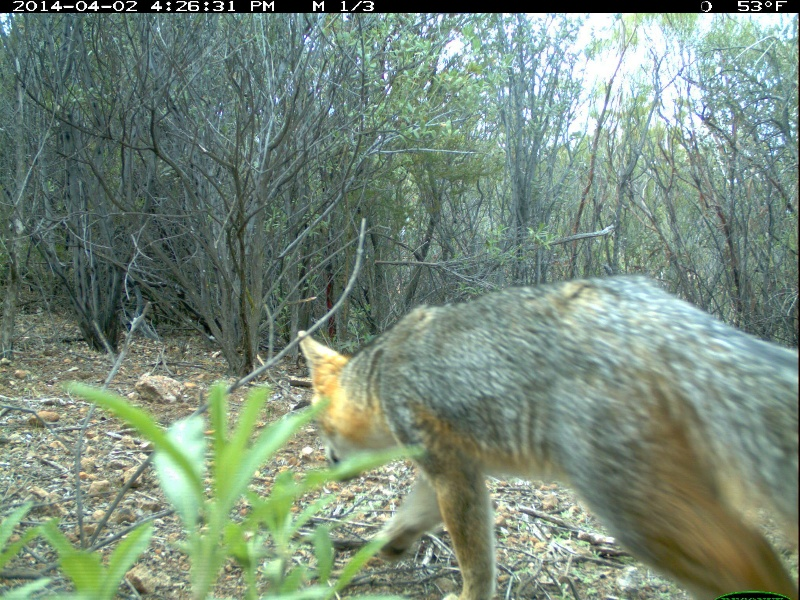coyote: (298, 273, 799, 600)
